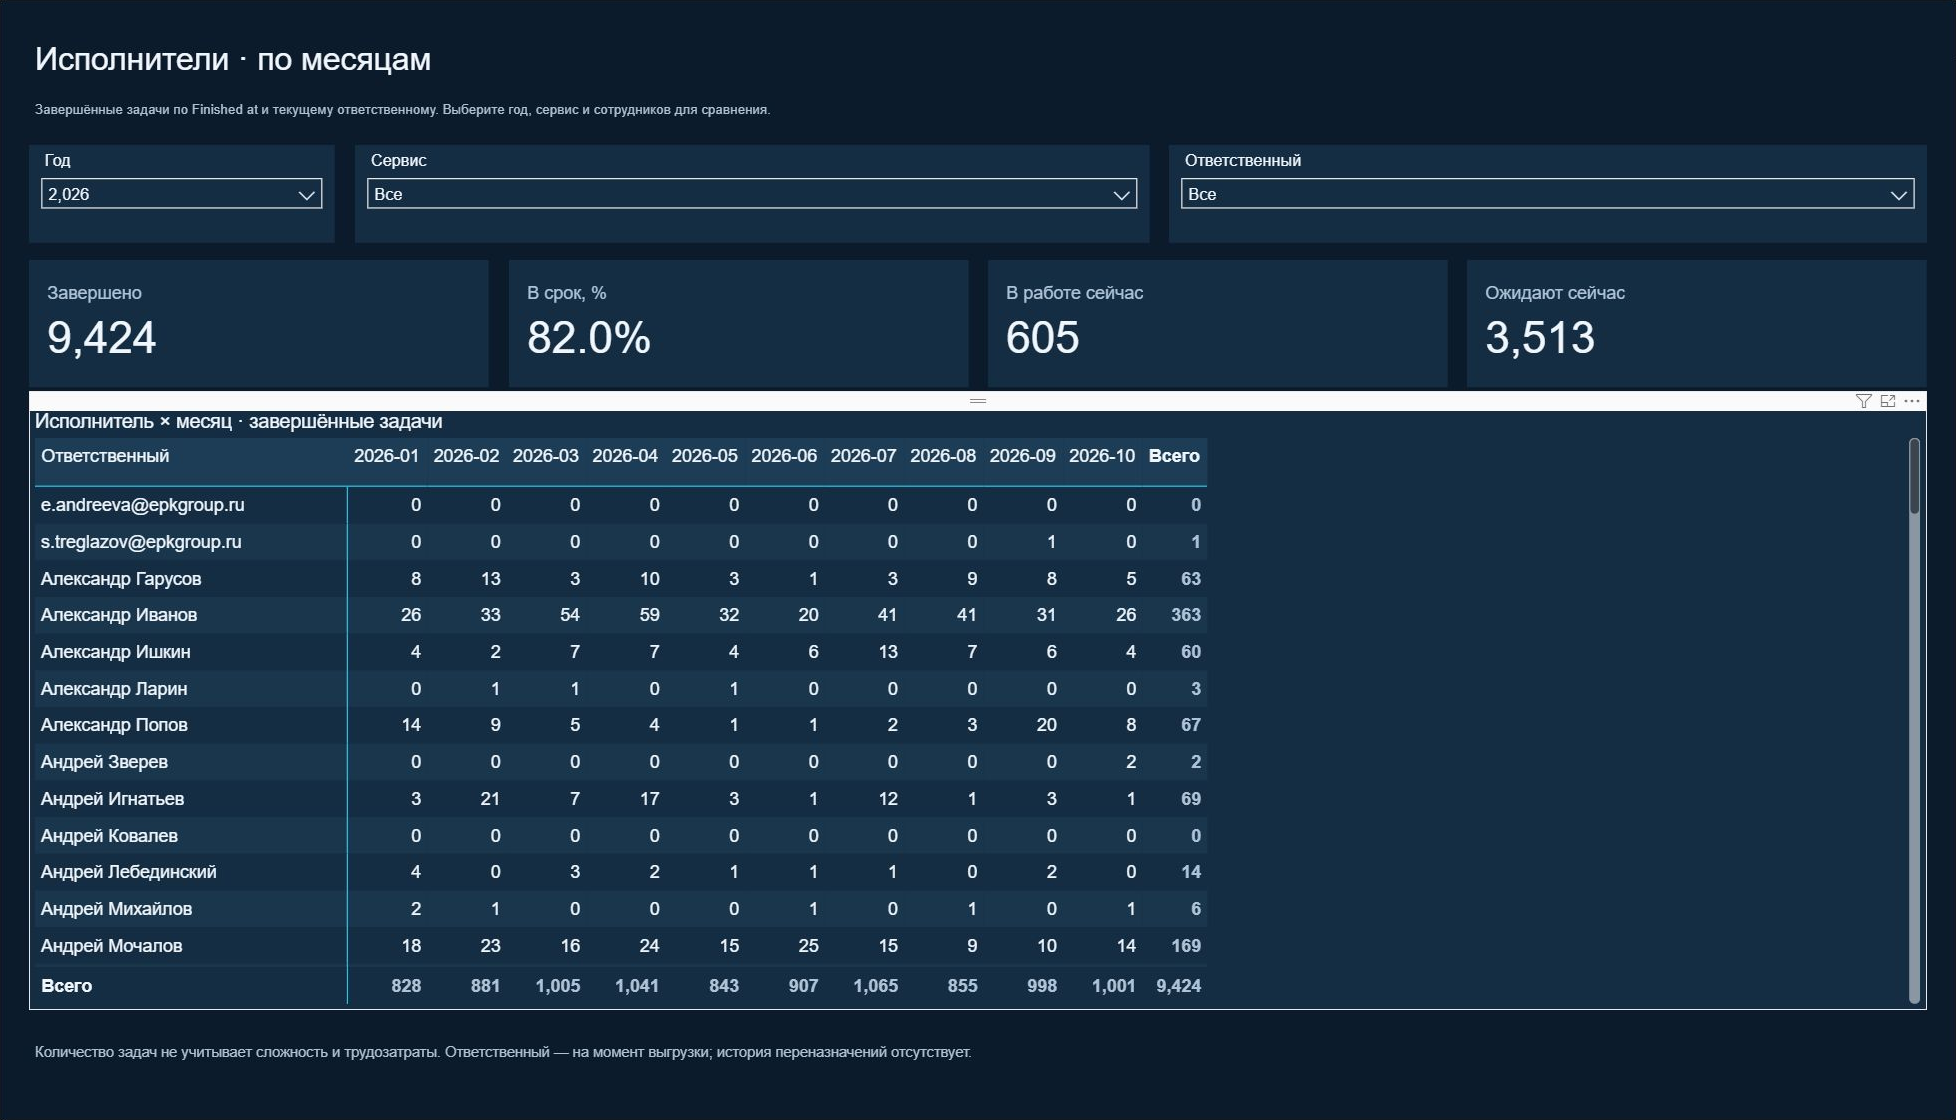

The dashboard page shown, as its layout file describes it:
{"tool":"powerbi","page":{"name":"Исполнители · по месяцам","canvas":[1600,900],"ordinal":1},"visuals":[{"type":"textbox","box":[24,12,1000,42],"z":0},{"type":"textbox","box":[24,59,1500,32],"z":1000},{"type":"slicer","fields":{"Values":["Календарь.Год"]},"box":[24,102,250,80],"z":2000},{"type":"slicer","fields":{"Values":["Сервисы.Сервис"]},"box":[290,102,650,80],"z":3000},{"type":"slicer","fields":{"Values":["Ответственные.Ответственный"]},"box":[956,102,620,80],"z":4000},{"type":"cardVisual","fields":{"Data":["Заявки.Завершено"]},"box":[24,196,376,104],"z":5000},{"type":"cardVisual","fields":{"Data":["Заявки.В срок, %"]},"box":[416,196,376,104],"z":6000},{"type":"cardVisual","fields":{"Data":["Заявки.В работе сейчас"]},"box":[808,196,376,104],"z":7000},{"type":"cardVisual","fields":{"Data":["Заявки.Ожидают сейчас"]},"box":[1200,196,376,104],"z":8000},{"type":"pivotTable","title":"Исполнитель × месяц · завершённые задачи","fields":{"Columns":["Календарь.Год-месяц"],"Rows":["Ответственные.Ответственный"],"Values":["Заявки.Завершено для матрицы"]},"box":[24,320,1552,490],"z":9000},{"type":"textbox","box":[24,830,1552,48],"z":10000}]}

Visuals, with their boxes in screenshot pixels (x1, y1, x2, y2), scaled from the page's 1600x900 canvas onto the 1956x1120 screenshot:
textbox: crop(29, 15, 1252, 67)
textbox: crop(29, 73, 1863, 113)
slicer - Календарь.Год: crop(29, 127, 335, 226)
slicer - Сервисы.Сервис: crop(355, 127, 1149, 226)
slicer - Ответственные.Ответственный: crop(1169, 127, 1927, 226)
cardVisual - Заявки.Завершено: crop(29, 244, 489, 373)
cardVisual - Заявки.В срок, %: crop(509, 244, 968, 373)
cardVisual - Заявки.В работе сейчас: crop(988, 244, 1447, 373)
cardVisual - Заявки.Ожидают сейчас: crop(1467, 244, 1927, 373)
"Исполнитель × месяц · завершённые задачи" pivotTable: crop(29, 398, 1927, 1008)
textbox: crop(29, 1033, 1927, 1093)
